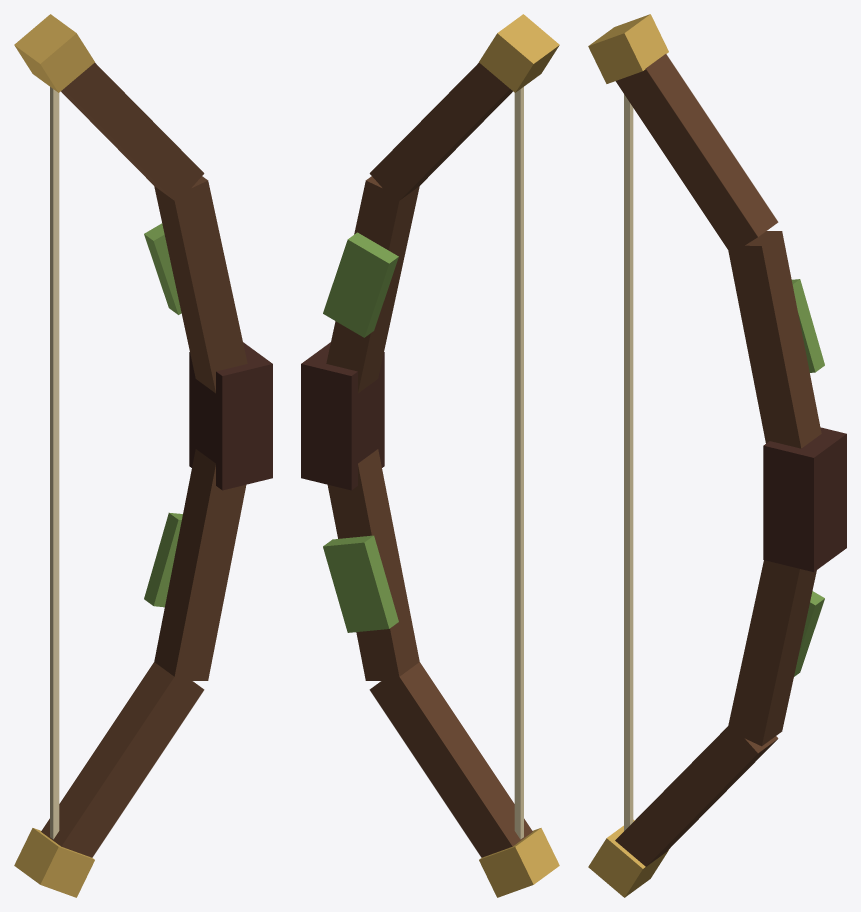
File: yew_longbow.glb
3 renders of one model, left to right at view 1: azimuth 30°, elevation 25°; view 2: azimuth 150°, elevation 25°; view 3: azimuth 330°, elevation 25°, orthographic.
Parts seen in each view (by area): view 1: yew_longbow; view 2: yew_longbow; view 3: yew_longbow.
Part boxes in pixels (bbox=[...]): yew_longbow: bbox=[14, 14, 272, 897]; yew_longbow: bbox=[301, 14, 559, 897]; yew_longbow: bbox=[588, 14, 846, 897].
Bounding box in the file's own units: 1.36 × 4.92 × 0.38.
